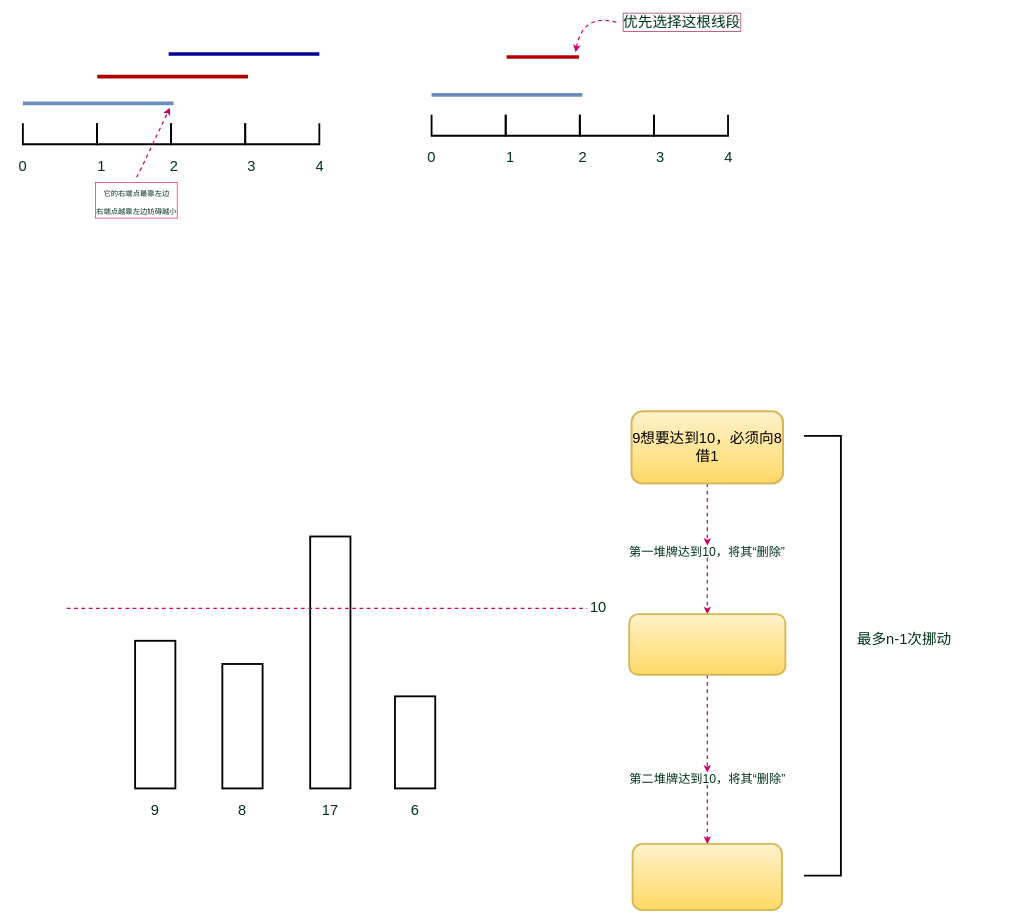
Image size: 1012x921. Some labels were removed from this diagram. The centre of each missing label's shape, as x and y in pixels:
"17被借3之后剩余14，多了4个，给右边的6" belongs at pixel 707 877.
"8被借了1之后，剩余7，需要向17借3" belongs at pixel 707 644.
